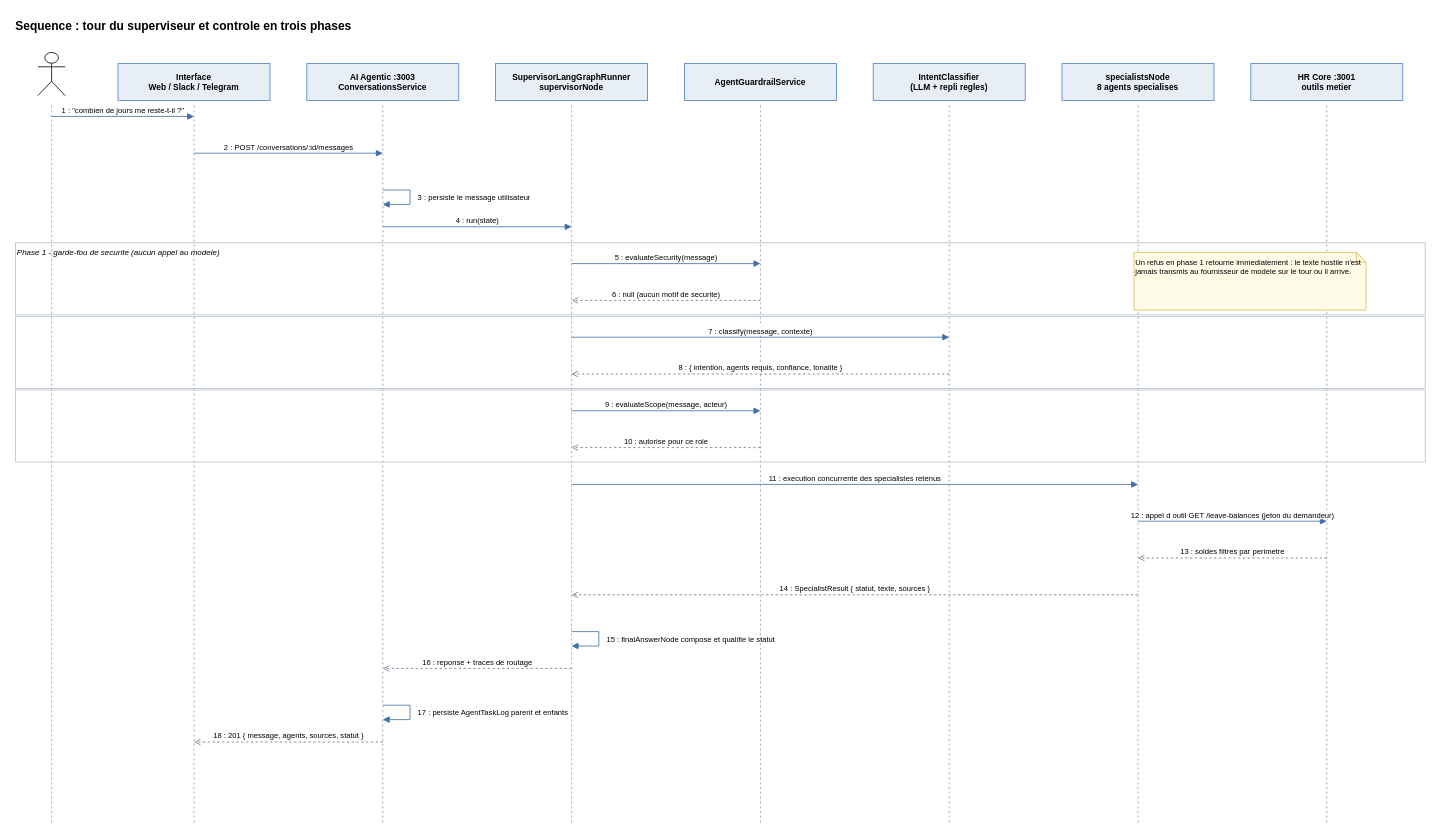
Some shapes in this 1439 by 838 pixel diagram are drawn without their labels. Here are the shapes that lost their labels. From the top down, the centre of each, then its label:
At pixel 51 74: "Utilisateur".
At pixel 720 352: "Phase 2 - classification d intention (unique appel au modele)".
At pixel 720 425: "Phase 3 - garde-fou d habilitation".
